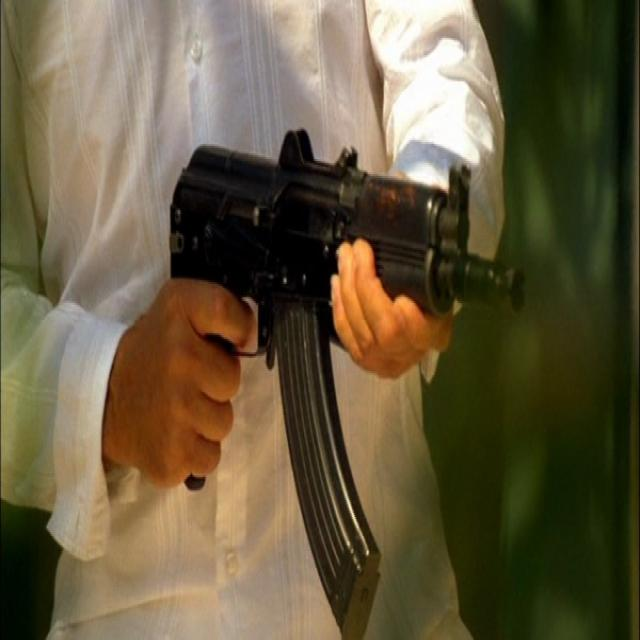rifle: (165, 126, 529, 640)
